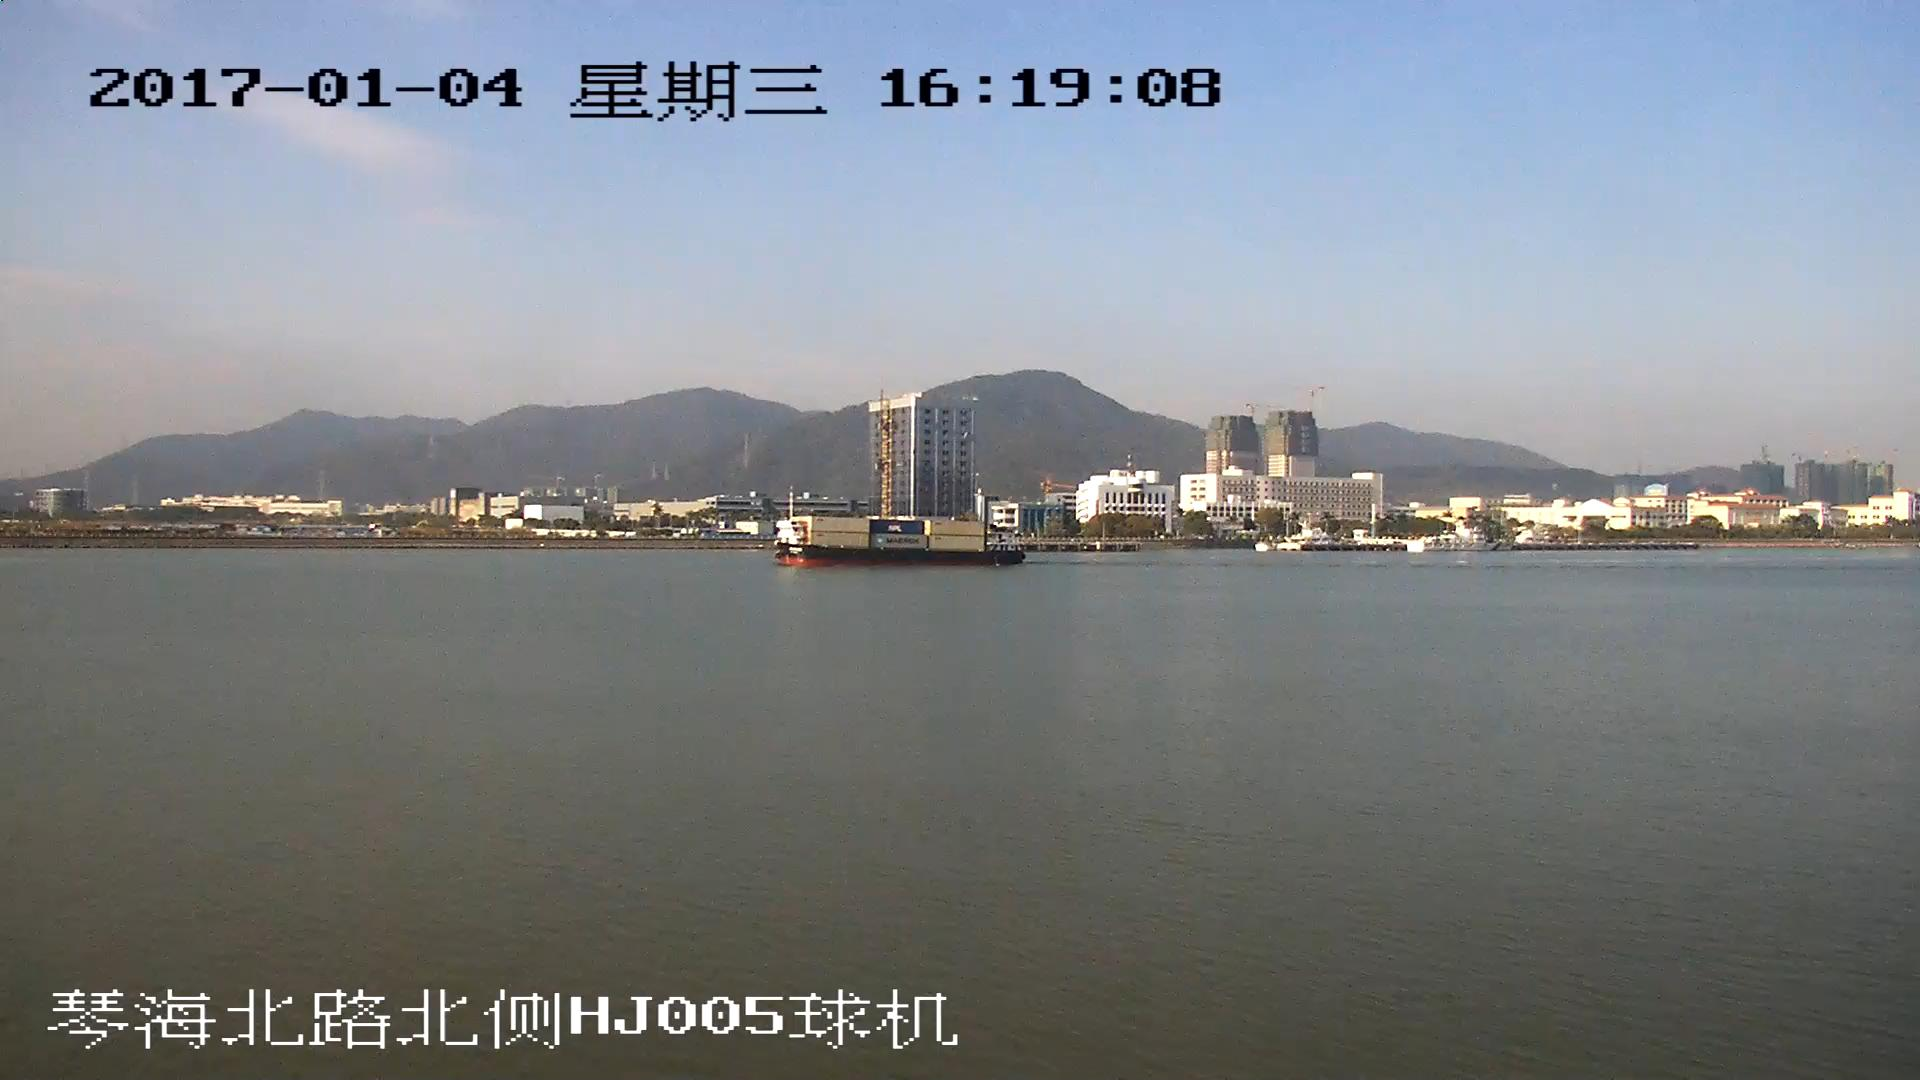container ship: (770, 514, 1022, 568)
